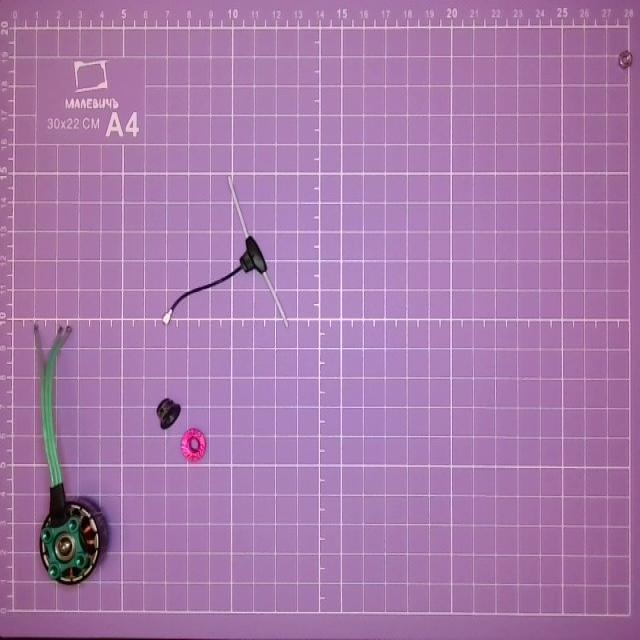antenna: (162, 176, 290, 329)
motor: (35, 316, 109, 586)
screw_M3: (614, 47, 634, 73)
screw_M5: (181, 426, 210, 464), (154, 397, 182, 431)
